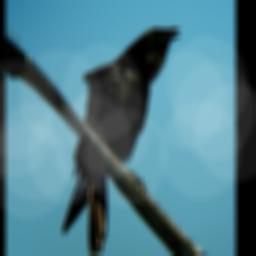Crow: (62, 25, 181, 256)
